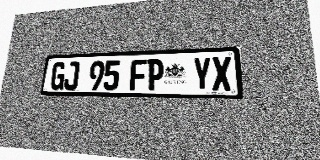5: (103, 60, 120, 90)
9: (88, 61, 105, 90)
F: (129, 59, 147, 90)
G: (50, 62, 66, 90)
J: (63, 61, 80, 90)
P: (146, 59, 164, 91)
X: (211, 56, 232, 91)
Y: (193, 57, 211, 91)
